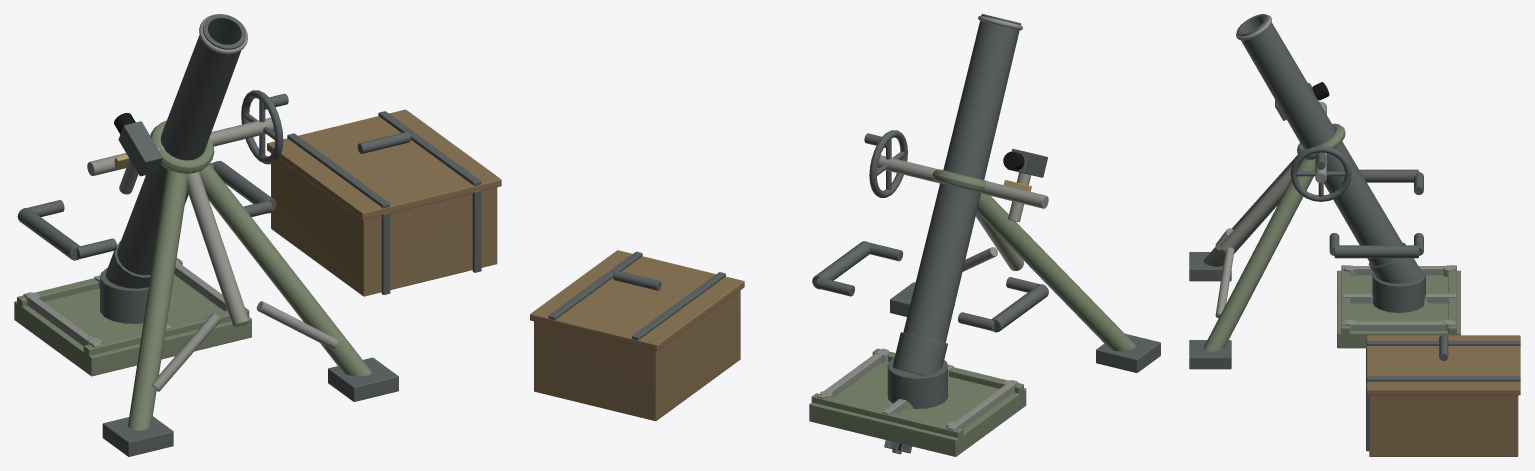
The model's file is mortar60.glb.
3 views of the same model, side by side, from view 1: azimuth 30°, elevation 25°; view 2: azimuth 150°, elevation 25°; view 3: azimuth 270°, elevation 25° (orthographic). The views are drawn at different scales.
Parts seen in each view (by area): view 1: wooden_chest, chest_lid, mortar_tube, baseplate, bipod_leg, bipod_leg.001, elevation_screw, bipod_shoe, bipod_shoe.001, ball_socket, sight_head, traverse_screw (+17 smaller); view 2: wooden_chest, mortar_tube, chest_lid, baseplate, bipod_leg, ball_socket, breech_cap, traverse_screw, baseplate_flange, bipod_shoe, handwheel_rim, carry_handle (+8 smaller); view 3: wooden_chest, mortar_tube, chest_lid, bipod_leg.001, baseplate, ball_socket, elevation_screw, carry_handle.001, handwheel_rim, bipod_shoe.001, breech_cap, pressed_baseplate_rib.002 (+11 smaller).
Part boxes in pixels (x1,y1,x2,y2): wooden_chest: (271, 153, 497, 296); chest_lid: (267, 109, 501, 219); mortar_tube: (117, 14, 245, 275); baseplate: (14, 274, 251, 376); bipod_leg: (128, 169, 187, 430); bipod_leg.001: (199, 164, 371, 376); elevation_screw: (187, 171, 249, 327); bipod_shoe: (102, 416, 173, 456); bipod_shoe.001: (328, 357, 398, 401); ball_socket: (100, 268, 148, 323); sight_head: (118, 121, 162, 176); traverse_screw: (87, 117, 274, 175); wooden_chest: (534, 290, 740, 421); mortar_tube: (903, 14, 1020, 342); chest_lid: (530, 250, 744, 351); baseplate: (809, 361, 1026, 456); bipod_leg: (976, 193, 1135, 351); ball_socket: (887, 358, 947, 408); breech_cap: (893, 332, 947, 375); traverse_screw: (877, 155, 1048, 208); baseplate_flange: (811, 393, 963, 438); bipod_shoe: (1096, 333, 1160, 372); handwheel_rim: (869, 130, 907, 197); carry_handle: (991, 284, 1048, 332); wooden_chest: (1369, 395, 1518, 456); mortar_tube: (1236, 14, 1403, 266); chest_lid: (1366, 335, 1520, 395); bipod_leg.001: (1203, 159, 1315, 351); baseplate: (1337, 270, 1460, 348); ball_socket: (1372, 268, 1425, 312); elevation_screw: (1220, 164, 1292, 251); carry_handle.001: (1334, 245, 1418, 258); handwheel_rim: (1290, 146, 1351, 201); bipod_shoe.001: (1189, 340, 1231, 369); breech_cap: (1368, 243, 1421, 283); pressed_baseplate_rib.002: (1342, 321, 1455, 330).
Bounding box in the file's own units: 0.9025 × 0.7202 × 0.6675.
